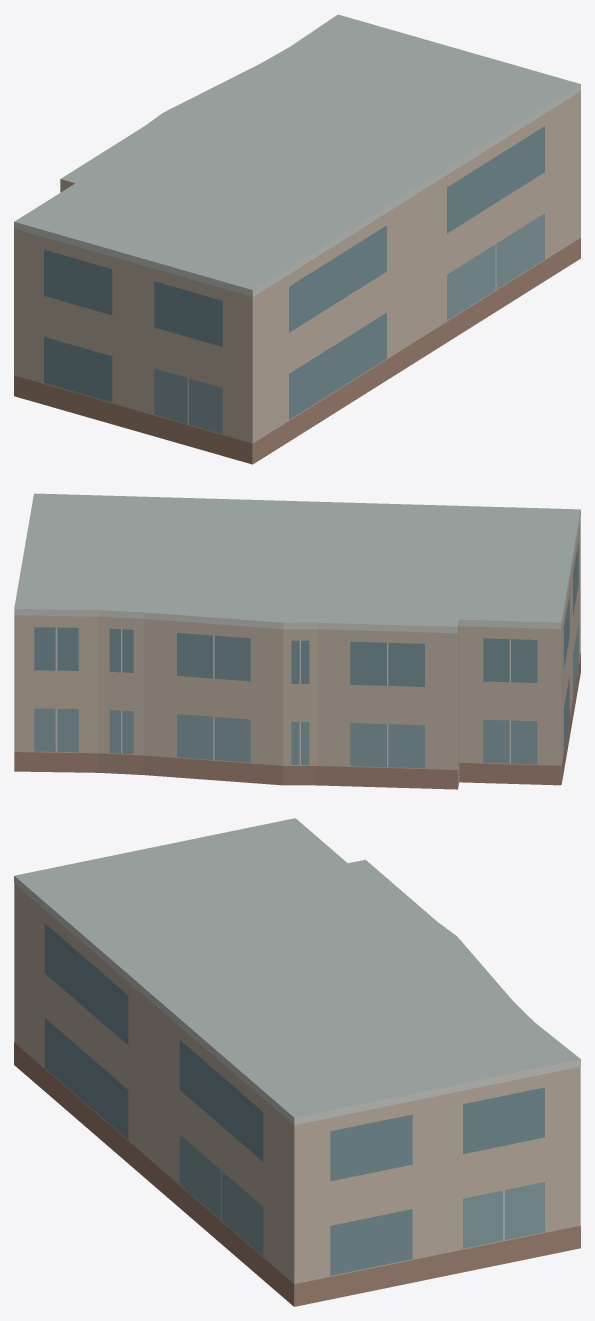
The model's file is survey-upis-32857276.glb.
The picture shows the model from 3 angles, top to bottom: view 1: azimuth 30°, elevation 25°; view 2: azimuth 150°, elevation 25°; view 3: azimuth 270°, elevation 25°; orthographic projection. The views are drawn at different scales.
Visible parts, largest first — view 1: survey-upis-32857276.tmp; view 2: survey-upis-32857276.tmp; view 3: survey-upis-32857276.tmp.
Part boxes in pixels (x1=…): survey-upis-32857276.tmp: x1=14, y1=14, x2=580, y2=464; survey-upis-32857276.tmp: x1=14, y1=493, x2=580, y2=789; survey-upis-32857276.tmp: x1=14, y1=818, x2=580, y2=1306.
Bounding box in the file's own units: 20.73 × 6.1 × 16.57.
